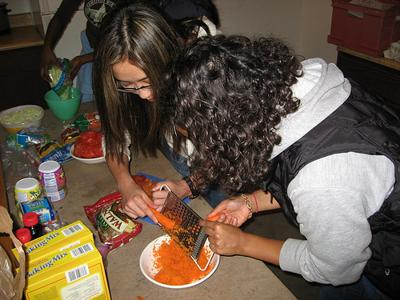person: (170, 34, 400, 298)
